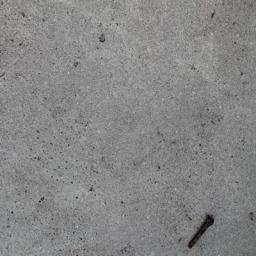FOD: (188, 213, 216, 253)
